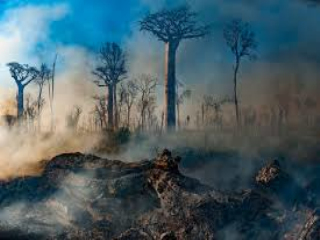smoke: (2, 35, 317, 187)
